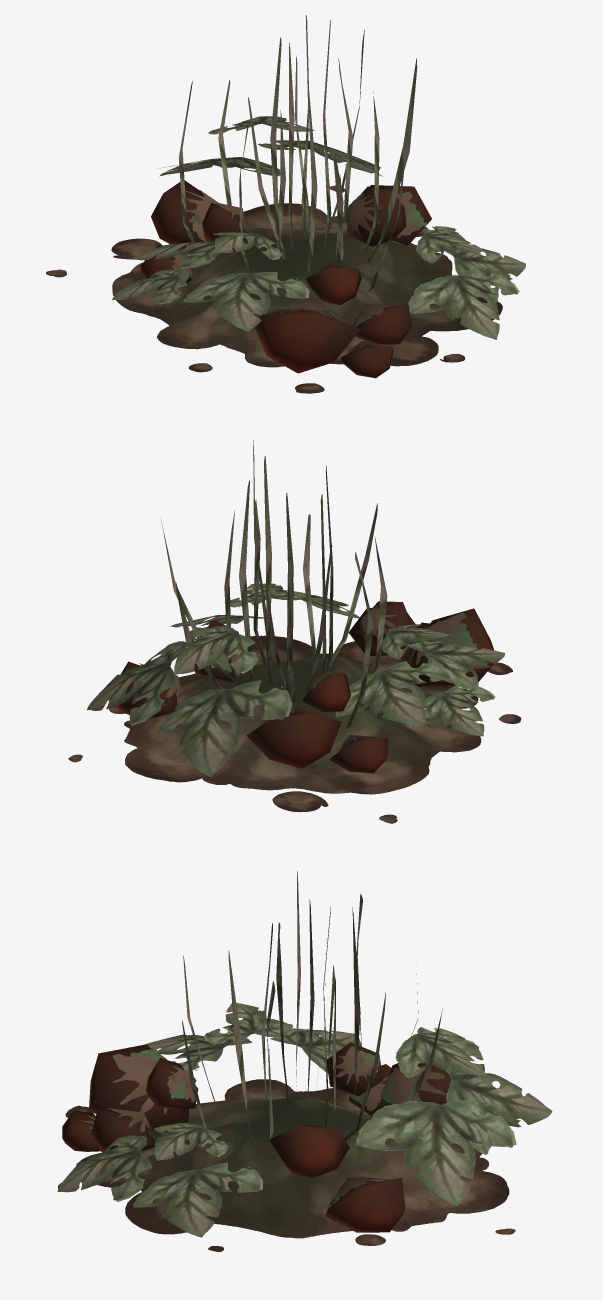
File: stawberry_broke.FBX
The picture shows the model from 3 angles, top to bottom: view 1: azimuth 30°, elevation 25°; view 2: azimuth 150°, elevation 25°; view 3: azimuth 270°, elevation 25°; orthographic projection. The views are drawn at different scales.
Parts seen in each view (by area): view 1: stawberry_broke; view 2: stawberry_broke; view 3: stawberry_broke.
Boxes of the visible parts, x1=… form: stawberry_broke: x1=46, y1=15, x2=525, y2=393; stawberry_broke: x1=68, y1=440, x2=521, y2=823; stawberry_broke: x1=57, y1=871, x2=552, y2=1251.
Bounding box in the file's own units: 5 × 2.69 × 4.94.
1 material, 1 textured.
